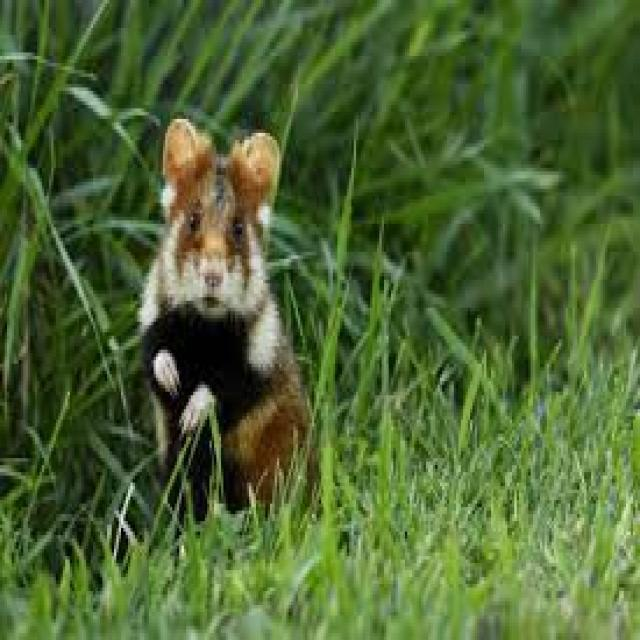hamster: (122, 142, 332, 480)
